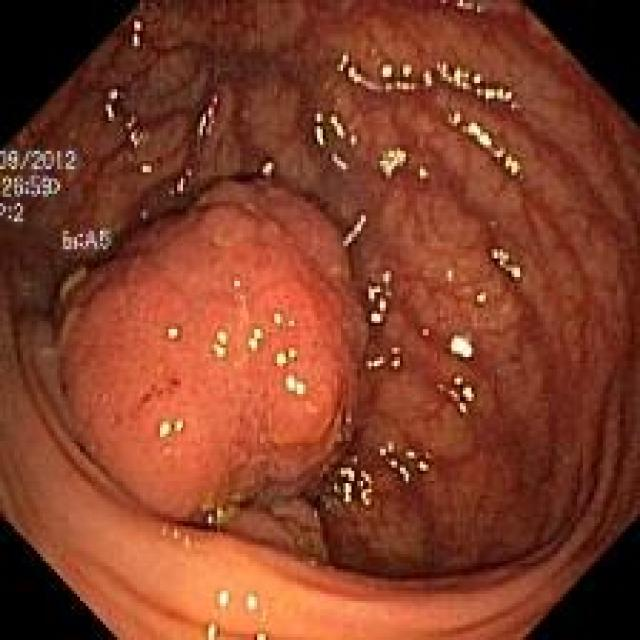Polyps: (59, 182, 366, 522)
